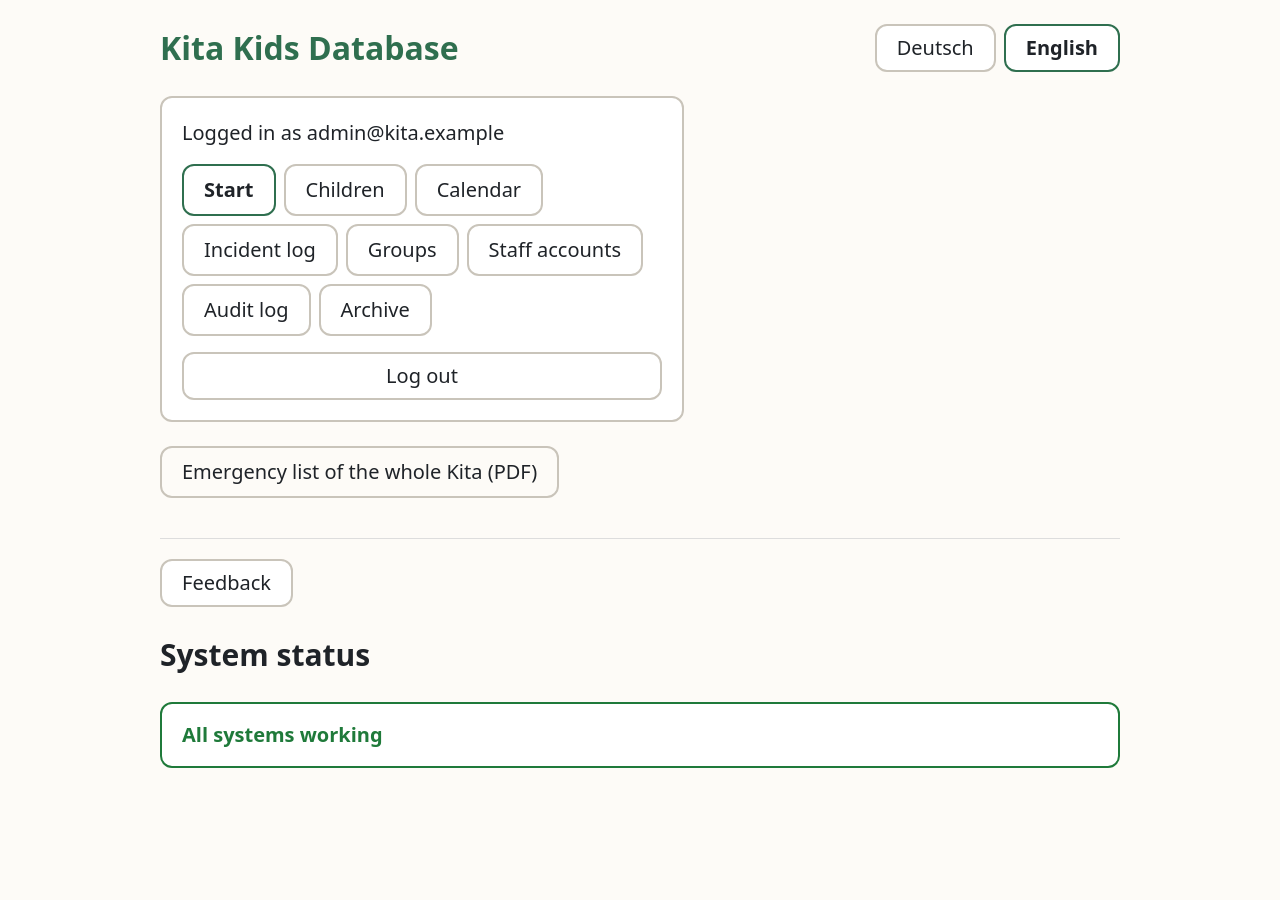
Test: audit log › shows Admins who did what to which Child
Click the link "Audit log" at (246, 310), box [182,284,311,336]
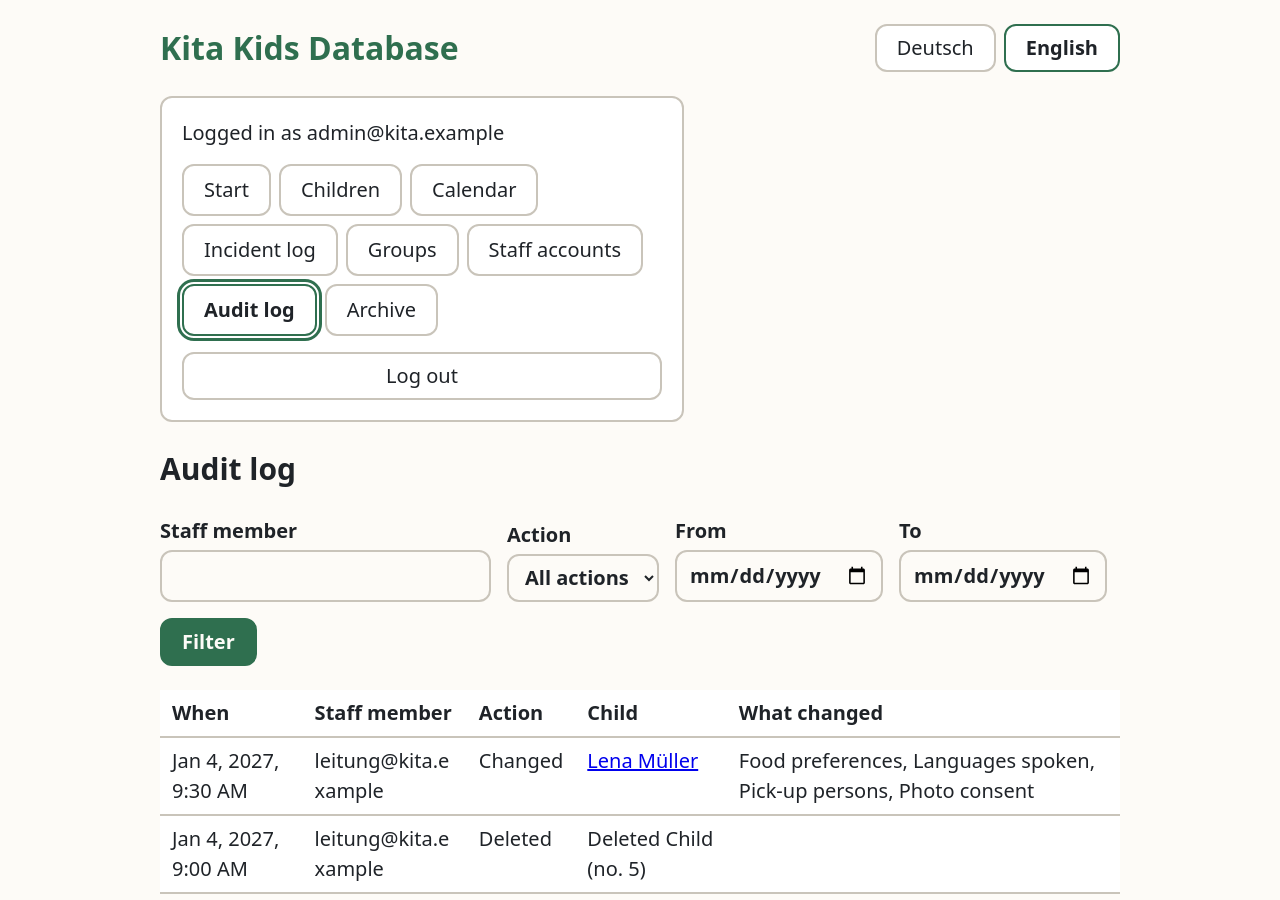
Expected: the row "Changed" shows "leitung@kita.example", [315,747,449,804]
Expected: the row "Changed" shows "Food preferences, Languages spoken, Pick-up persons, Photo consent", [739,747,1095,804]
Expected: the row "Deleted" shows "Deleted Child (no. 5)", [587,825,713,882]
